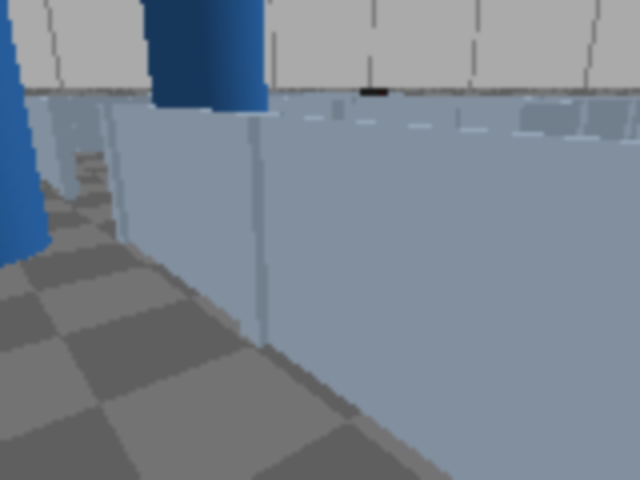person: (0, 0, 50, 273)
